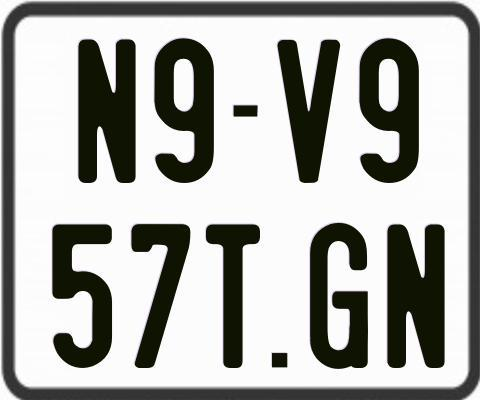5: (51, 221, 116, 369)
7: (130, 221, 194, 369)
9: (154, 36, 219, 186), (356, 35, 419, 185)
G: (308, 221, 367, 370)
N: (385, 221, 449, 367), (77, 39, 139, 187)
T: (204, 222, 262, 372)
V: (274, 37, 342, 185)
